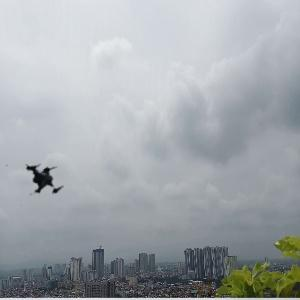drone: (7, 151, 71, 215)
